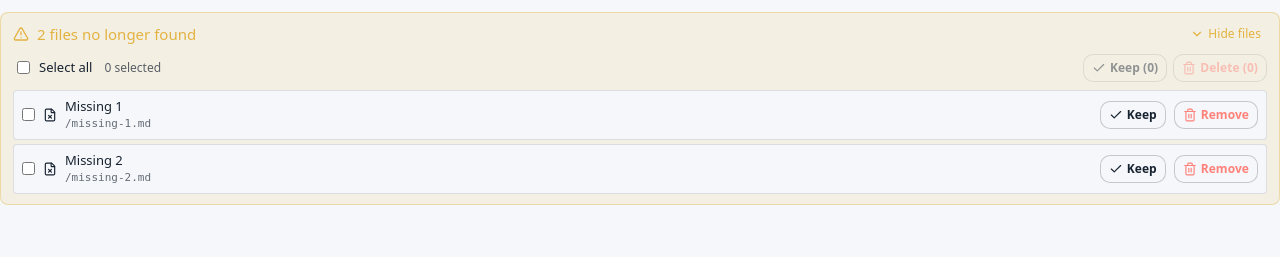
Scenario: missing document recovery › retains a visible mutation error and reloads after a partially completed keep batch
The width and height of the screenshot is (1280, 257).
Expected: the text "Missing 1" is shown, [65, 96, 123, 114]
What coordinates should you click on to do the following:
click the checkbox labelled "Select all"
I would click on:
 (24, 68)
Its box is [17, 61, 30, 74].
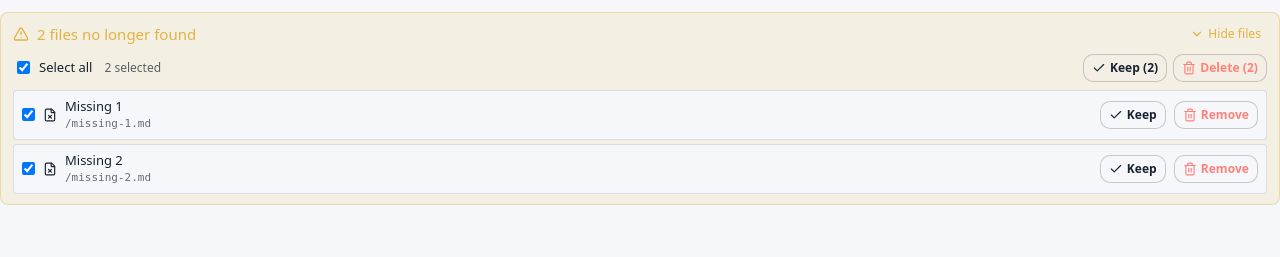
What coordinates should you click on to do the following:
click the button "Keep (2)"
I would click on:
 (1125, 68)
Its box is [1083, 54, 1167, 82].
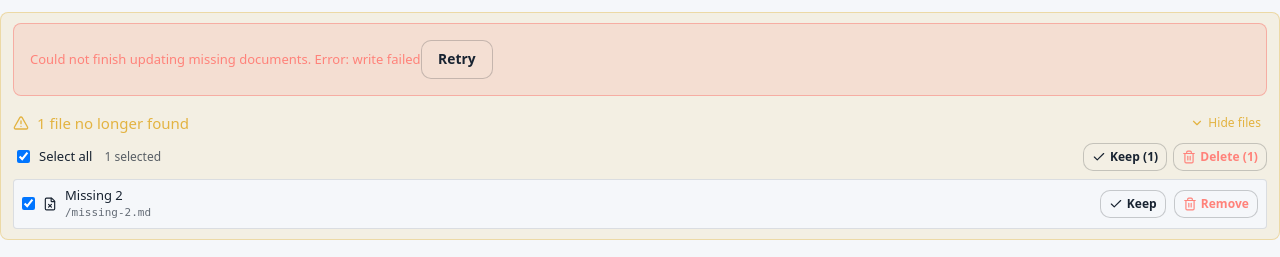
Now the button "Keep (1)" is enabled, box [1083, 143, 1167, 171]
Now the message shows "write failed", box [30, 50, 421, 68]
Now the text "Missing 1" is gone
